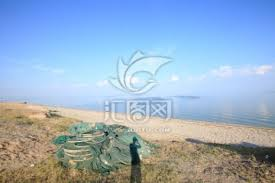net: (55, 122, 159, 169)
